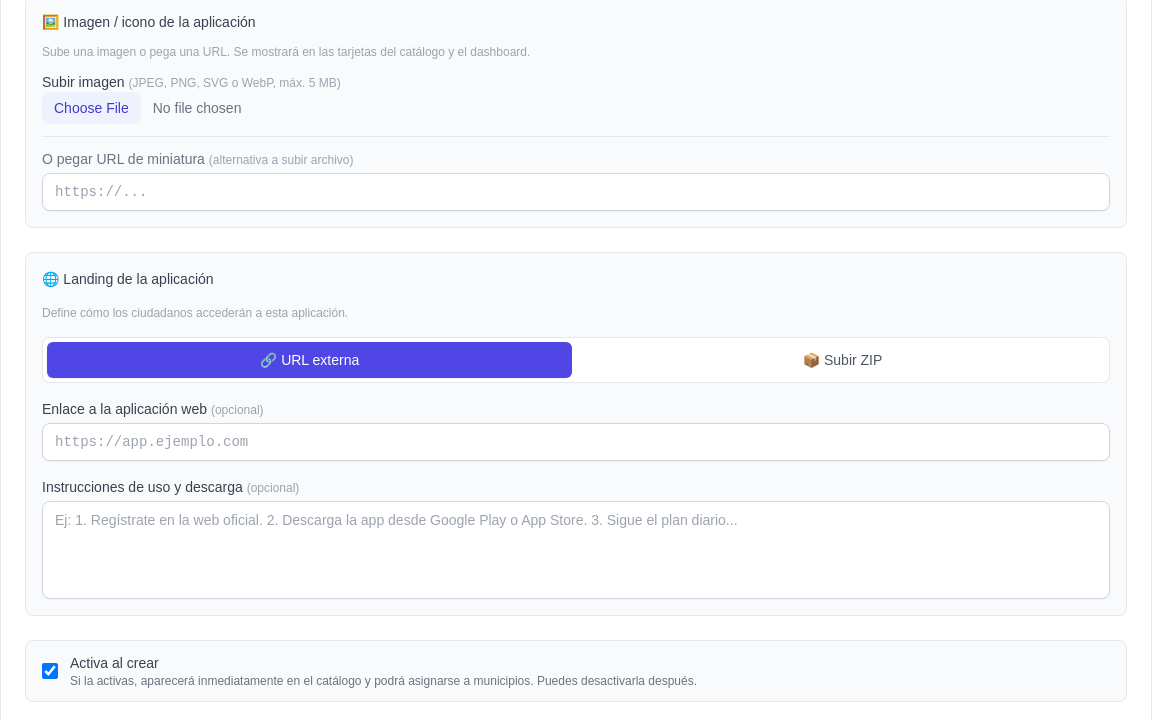
Scenario: CreateApplicationForm — auto-switch de tipo al cambiar el modo de landing › al pulsar 'URL externa' con tipo='programa' (default problemático) → cambia a 'herramienta' y muestra la nota ámbar
(page scrolled)
El admin entra en modo 'URL externa' (default, pero simulamos el click)
Click the button "🔗 URL externa": click(310, 360) [47,342,572,378]
(page scrolled)
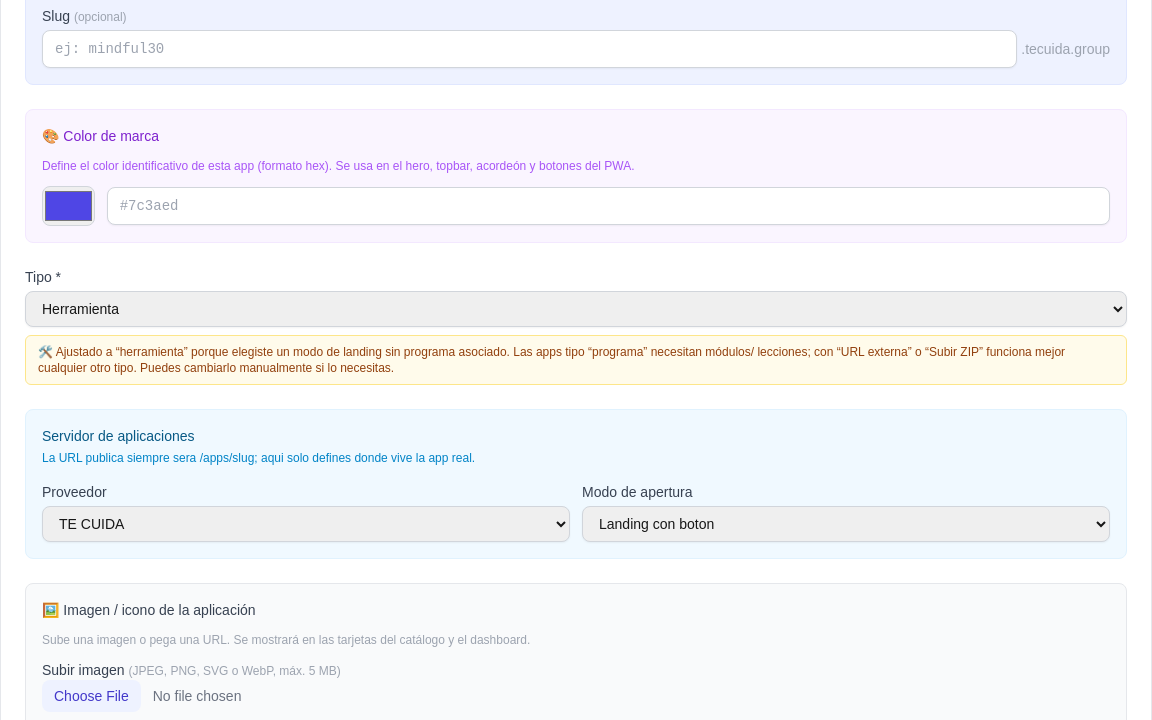
expect the dropdown labelled "Tipo *" shows "Herramienta": met, box [25,291,1127,327]
expect the message reads "🛠️ Ajustado a “herramienta” porque elegiste un modo de landing sin programa aso": met, box [38,345,1065,375]
